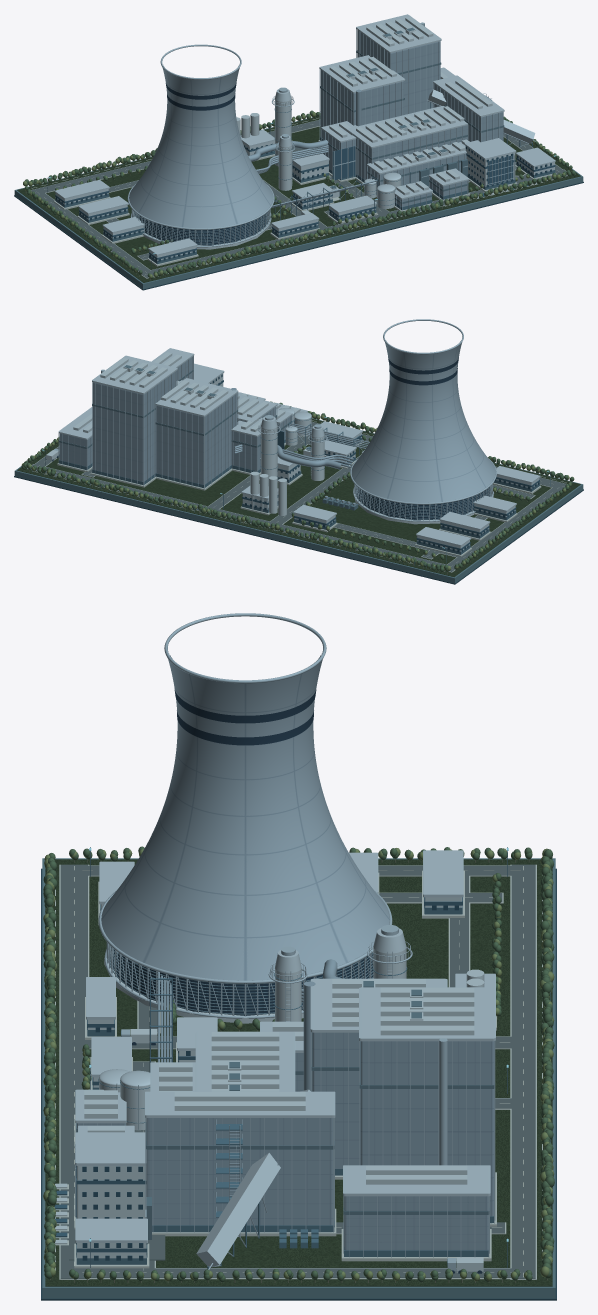
File: factory-campus.glb
3 renders of one model, top to bottom at view 1: azimuth 30°, elevation 25°; view 2: azimuth 150°, elevation 25°; view 3: azimuth 270°, elevation 25°, orthographic. The views are drawn at different scales.
Visible parts, largest first — view 1: 智慧工厂 · 可编辑建筑模型; view 2: 智慧工厂 · 可编辑建筑模型; view 3: 智慧工厂 · 可编辑建筑模型.
Part boxes in pixels (x1=…): 智慧工厂 · 可编辑建筑模型: x1=14, y1=14, x2=583, y2=290; 智慧工厂 · 可编辑建筑模型: x1=14, y1=319, x2=583, y2=584; 智慧工厂 · 可编辑建筑模型: x1=41, y1=613, x2=556, y2=1300.
Size of the model in its own units: 190 by 68.1 by 96.4.
24 materials, 4 textured.
